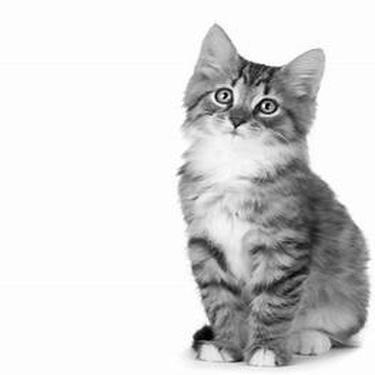cat: (175, 21, 371, 369)
